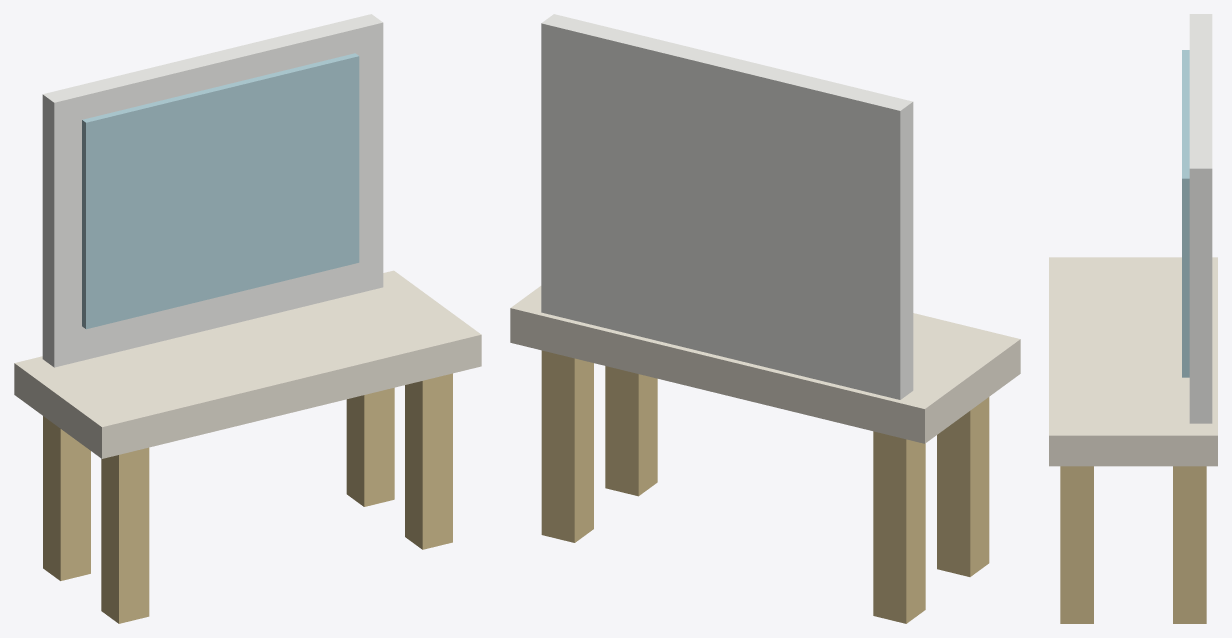
Rendered from spa_vanity.glb.
3 views of the same model, side by side, from view 1: azimuth 30°, elevation 25°; view 2: azimuth 150°, elevation 25°; view 3: azimuth 270°, elevation 25° (orthographic). The views are drawn at different scales.
Parts seen in each view (by area): view 1: part_02, part_00, part_01, part_04, part_06, part_03, part_05; view 2: part_01, part_00, part_05, part_03, part_04, part_06; view 3: part_00, part_01, part_05, part_06, part_02.
Part boxes in pixels (x1=…): part_02: x1=82, y1=53, x2=359, y2=329; part_00: x1=14, y1=270, x2=481, y2=458; part_01: x1=42, y1=14, x2=383, y2=367; part_04: x1=101, y1=447, x2=149, y2=623; part_06: x1=405, y1=373, x2=452, y2=549; part_03: x1=43, y1=416, x2=90, y2=580; part_05: x1=346, y1=387, x2=394, y2=506; part_01: x1=541, y1=14, x2=913, y2=399; part_00: x1=510, y1=286, x2=1020, y2=443; part_05: x1=541, y1=350, x2=593, y2=542; part_03: x1=873, y1=431, x2=925, y2=623; part_04: x1=937, y1=397, x2=989, y2=576; part_06: x1=605, y1=366, x2=657, y2=496; part_00: x1=1049, y1=257, x2=1217, y2=466; part_01: x1=1189, y1=14, x2=1212, y2=423; part_05: x1=1173, y1=466, x2=1206, y2=623; part_06: x1=1060, y1=466, x2=1093, y2=623; part_02: x1=1182, y1=50, x2=1189, y2=377.
Bounding box in the file's own units: 1.5 × 1.78 × 0.6.
